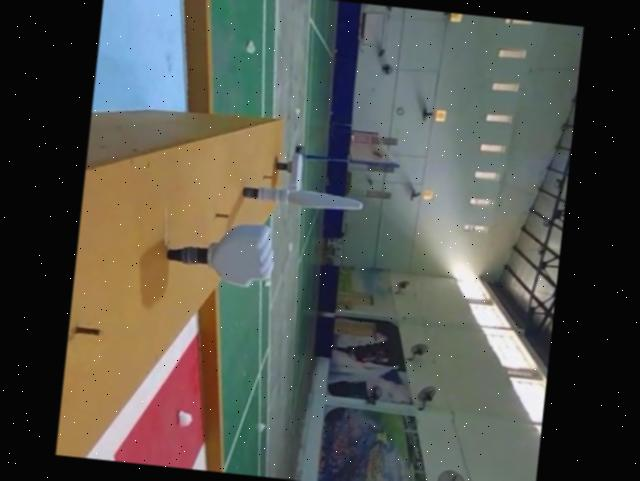Fist: (166, 213, 281, 289)
Hand: (273, 152, 308, 183)
Sph: (240, 180, 364, 215)
